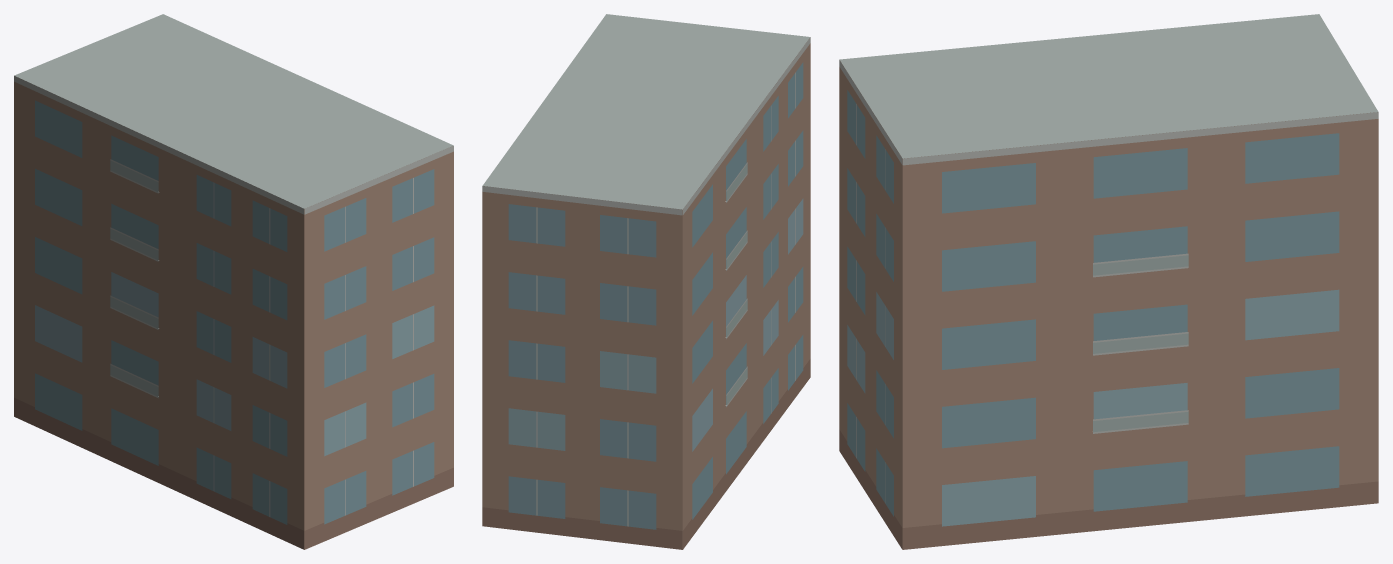
The model's file is survey-upis-32573789.glb.
3 renders of one model, left to right at view 1: azimuth 30°, elevation 25°; view 2: azimuth 150°, elevation 25°; view 3: azimuth 270°, elevation 25°, orthographic. The views are drawn at different scales.
Visible parts, largest first — view 1: survey-upis-32573789.tmp; view 2: survey-upis-32573789.tmp; view 3: survey-upis-32573789.tmp.
Boxes of the visible parts, x1,y1,x2,y2 form: survey-upis-32573789.tmp: (14, 14, 453, 549); survey-upis-32573789.tmp: (482, 14, 810, 549); survey-upis-32573789.tmp: (839, 14, 1378, 549).
Bounding box in the file's own units: 11.06 × 13.95 × 17.43.
